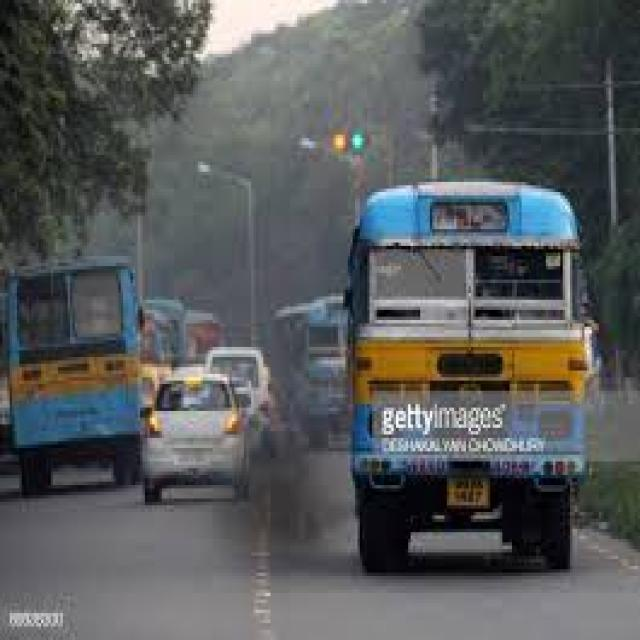Smoke: (249, 394, 348, 559)
